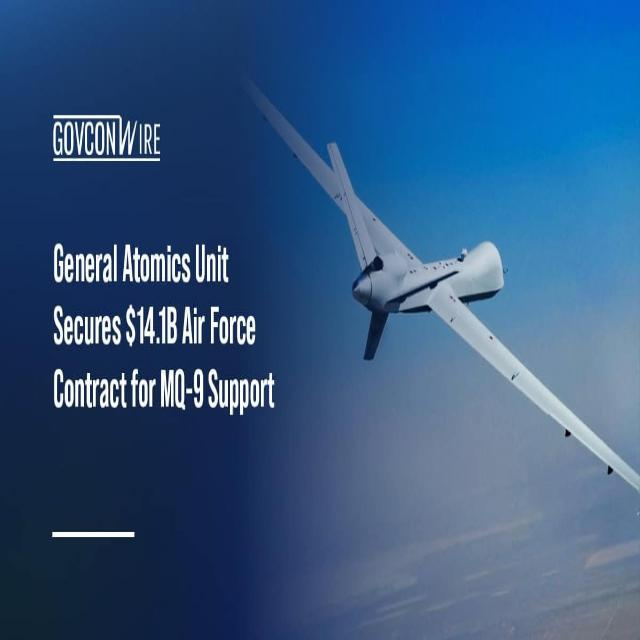MQ9: (235, 15, 640, 513)
